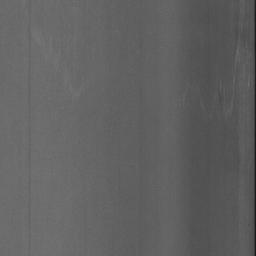Silk spot: (250, 0, 256, 256), (217, 88, 239, 125), (233, 147, 240, 173), (232, 45, 238, 72), (235, 26, 238, 43)
